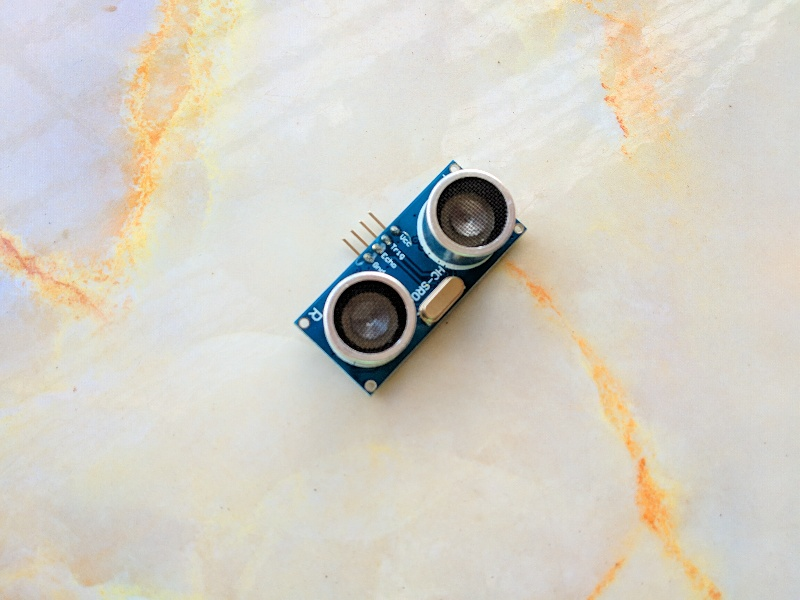Sonar Sensor: (289, 151, 533, 400)
